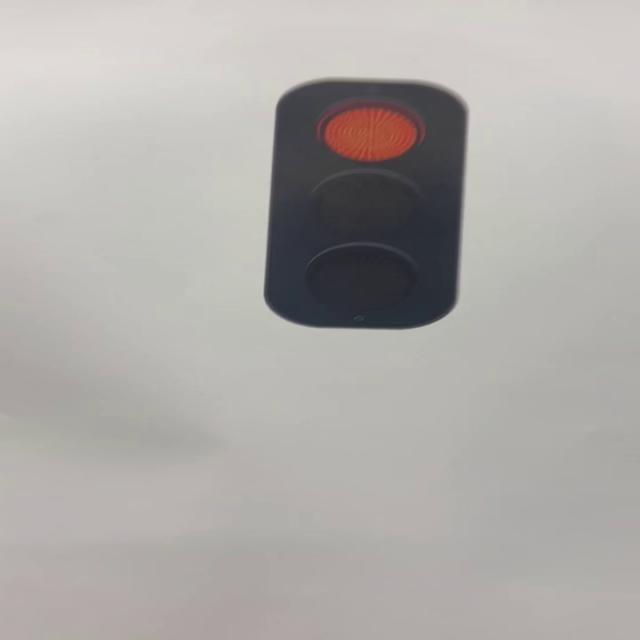red: (266, 72, 473, 334)
